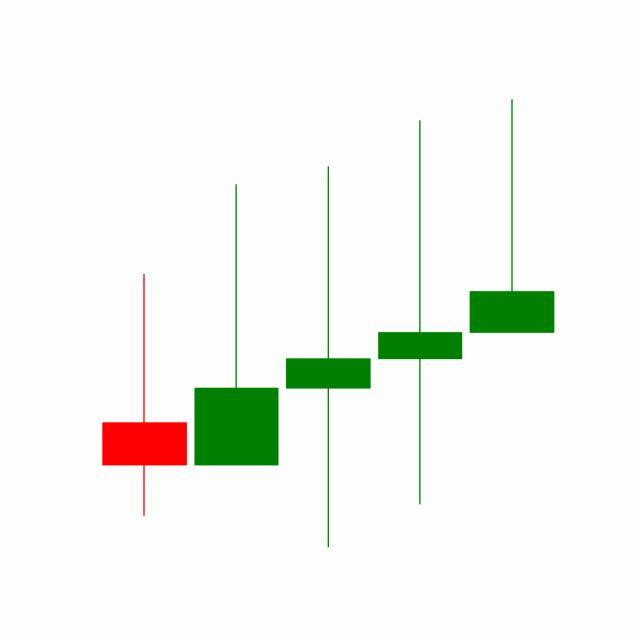Spinning Top: (374, 117, 468, 510)
